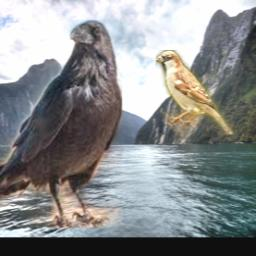Crow: (0, 20, 122, 228)
Sparrow: (155, 50, 232, 134)
